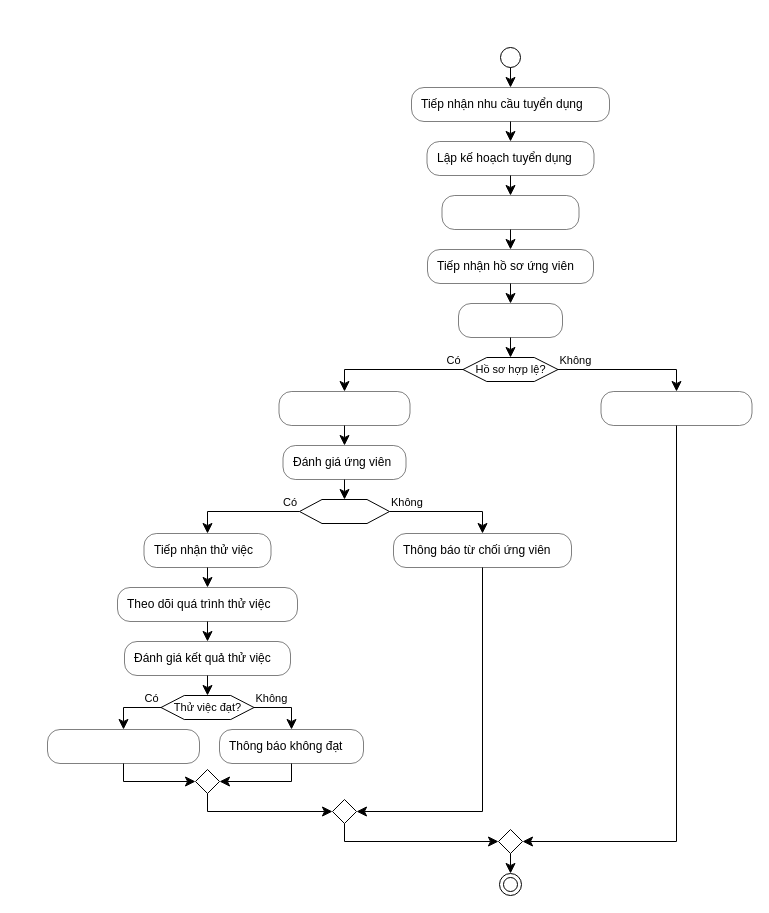
This 769x913 diagram has some shape labels left out. The box of each missing label's shape, as (x1, y1, x2, y2) in pixels:
Kiểm tra hồ sơ: (458, 303, 562, 337)
Lập hợp đồng lao động: (47, 729, 199, 763)
Sắp xếp phỏng vấn: (278, 391, 410, 425)
Yêu cầu bổ sung hồ sơ: (600, 391, 752, 425)
Đăng tin tuyển dụng: (441, 195, 579, 229)
Đạt yêu cầu?: (298, 498, 390, 524)
